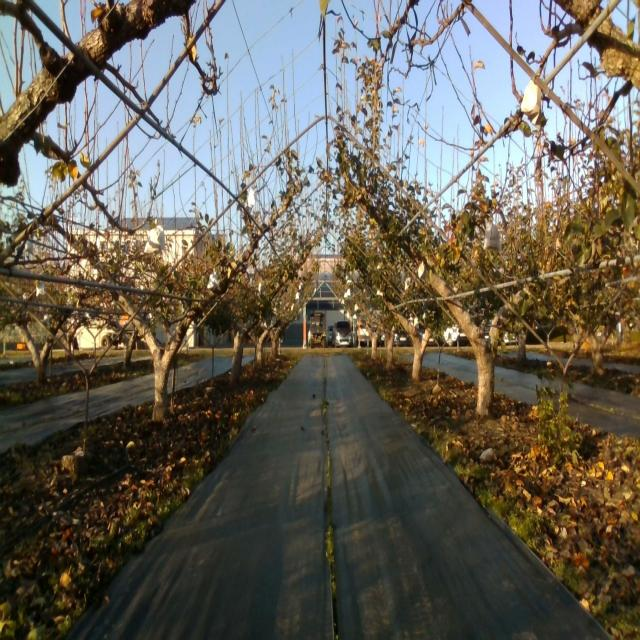pearbags: (520, 82, 542, 131), (144, 220, 166, 256), (483, 223, 502, 250), (208, 267, 220, 291)
